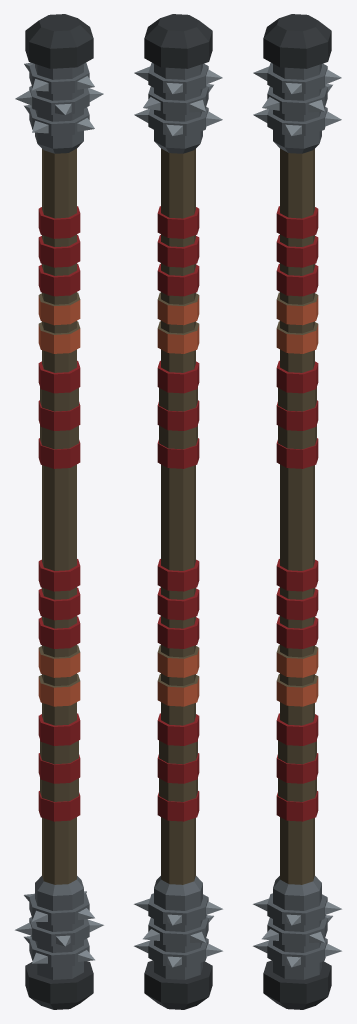
The model's file is BattleStaff.glb.
3 renders of one model, left to right at view 1: azimuth 30°, elevation 25°; view 2: azimuth 150°, elevation 25°; view 3: azimuth 330°, elevation 25°, orthographic.
Visible parts, largest first — view 1: BattleStaff; view 2: BattleStaff; view 3: BattleStaff.
Boxes of the visible parts, left/top/right/bottom form: BattleStaff: left=15, top=14, right=103, bottom=1009; BattleStaff: left=134, top=14, right=222, bottom=1009; BattleStaff: left=253, top=14, right=341, bottom=1009.
Size of the model in its own units: 0.0981 by 1.26 by 0.0981.
1 material, 1 textured.
